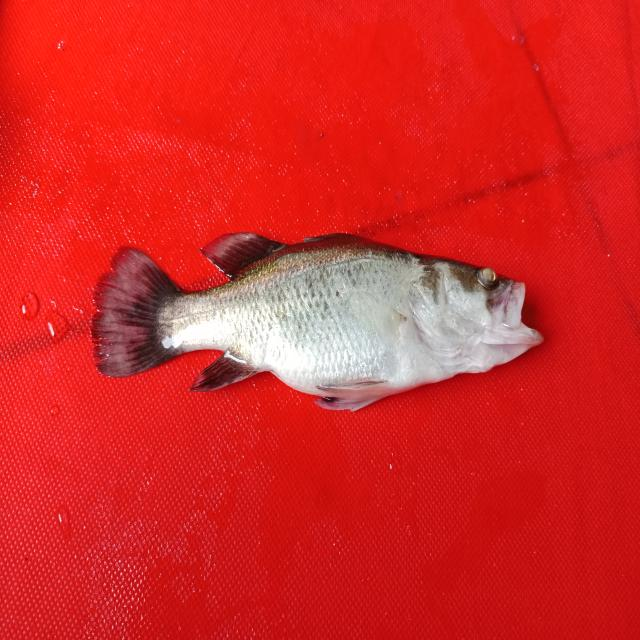ikan: (80, 182, 555, 430)
